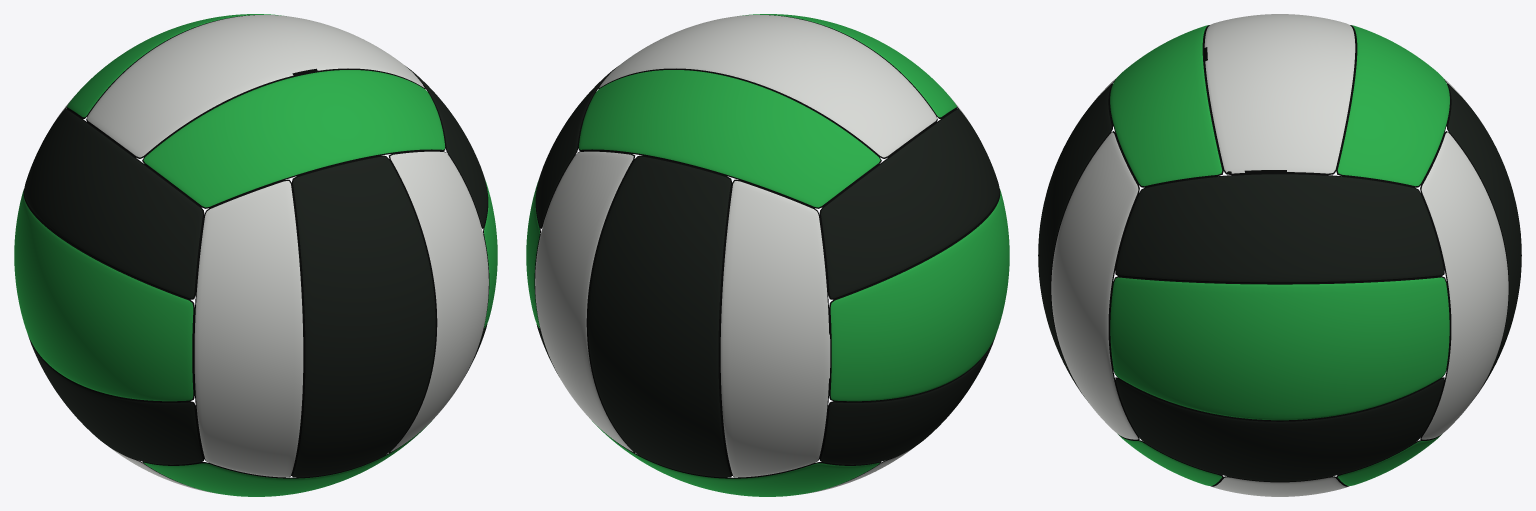
The model's file is balon.glb.
The picture shows the model from 3 angles, left to right: view 1: azimuth 30°, elevation 25°; view 2: azimuth 150°, elevation 25°; view 3: azimuth 270°, elevation 25°; orthographic projection.
Bounding box in the file's own units: 1 × 0.9997 × 1.
